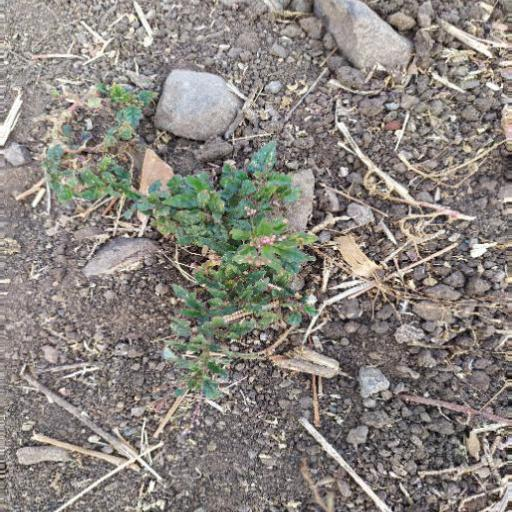weed: (36, 72, 349, 404)
